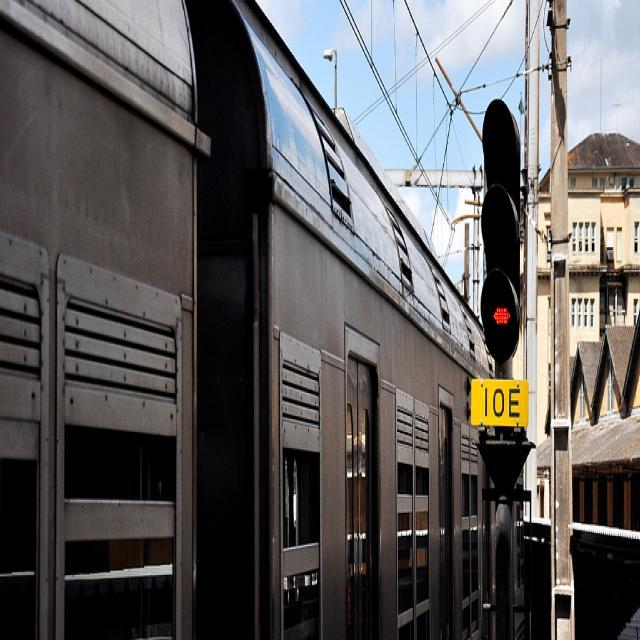traffic light: (474, 98, 535, 348)
